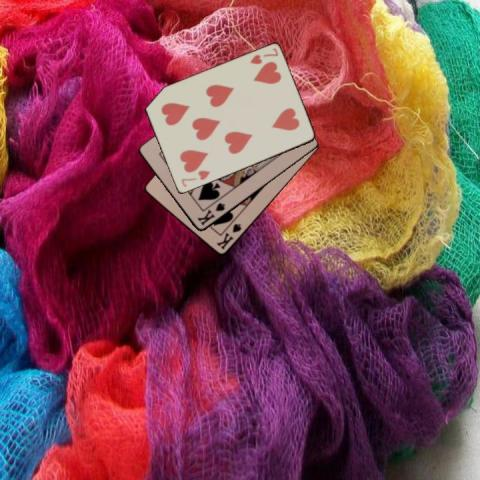7h: (178, 167, 211, 189), (247, 45, 279, 66)
Ks: (213, 221, 243, 251), (194, 200, 227, 227)
